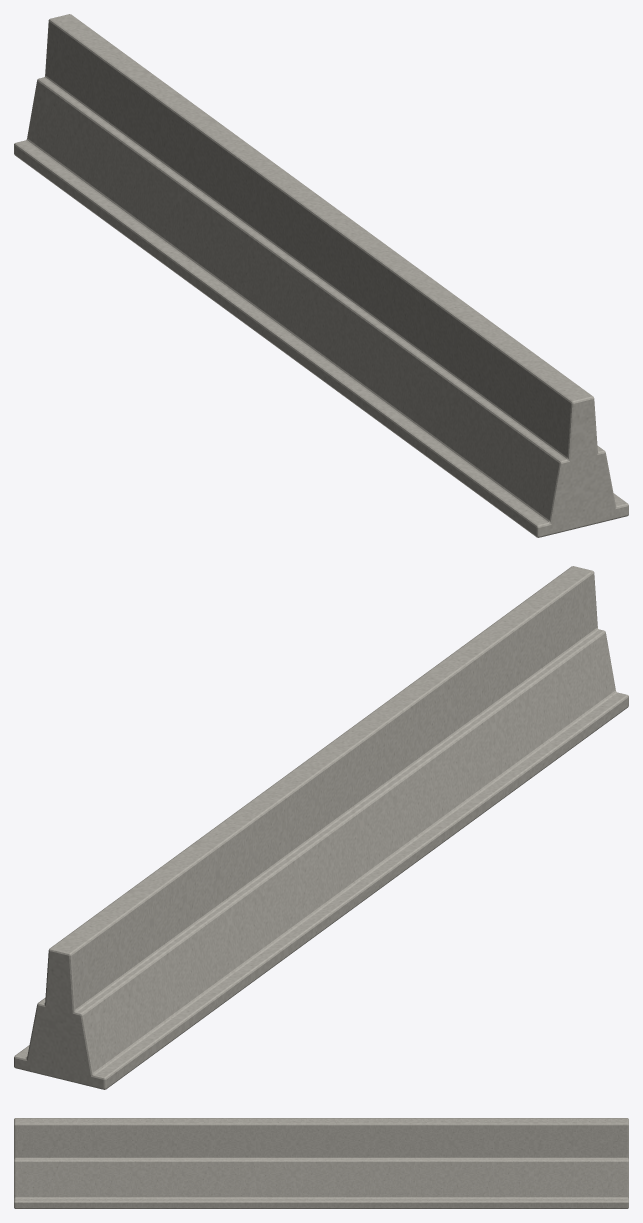
The model's file is krail_blank_6m.dae.
3 renders of one model, top to bottom at view 1: azimuth 30°, elevation 25°; view 2: azimuth 150°, elevation 25°; view 3: azimuth 270°, elevation 25°, orthographic. The views are drawn at different scales.
Parts seen in each view (by area): view 1: krail; view 2: krail; view 3: krail.
Part boxes in pixels (x1=…): krail: x1=14, y1=14, x2=628, y2=537; krail: x1=14, y1=566, x2=628, y2=1089; krail: x1=14, y1=1118, x2=628, y2=1208.
Size of the model in its own units: 0.61 by 6 by 0.81.
Materials: 1 (1 with a texture image).
